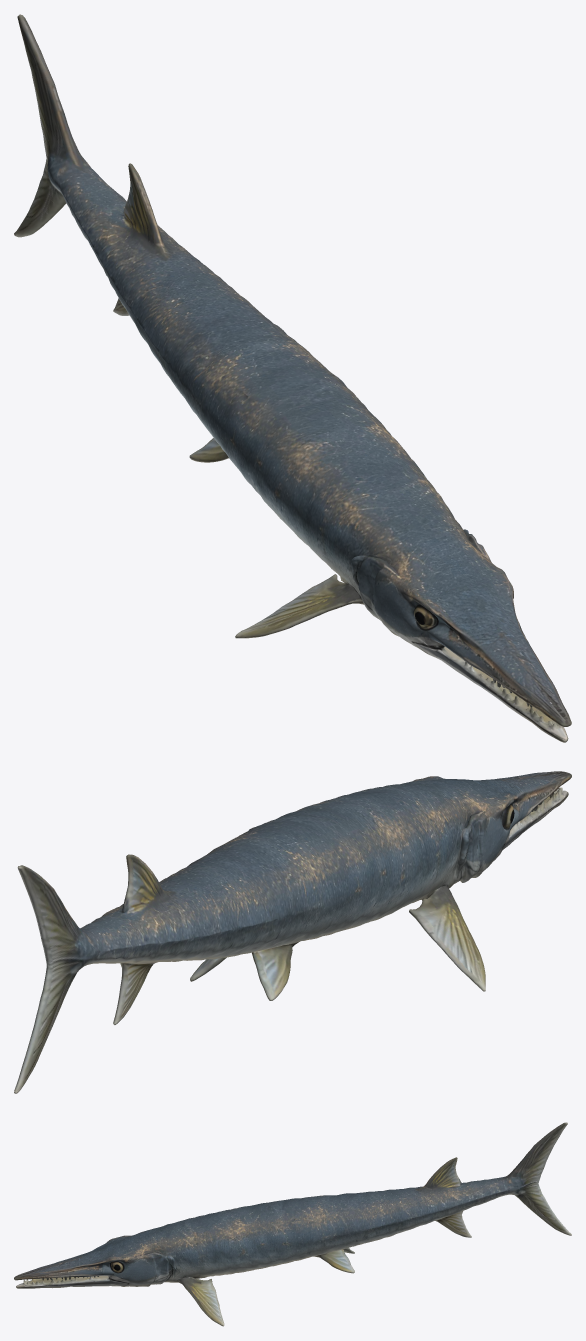
File: saurichthys.raw.glb
3 views of the same model, one above another, from view 1: azimuth 30°, elevation 25°; view 2: azimuth 150°, elevation 25°; view 3: azimuth 270°, elevation 25° (orthographic). The views are drawn at different scales.
Visible parts, largest first — view 1: tripo_node_fcd37f06-a374-42dc-b9eb-6aa38e6160db; view 2: tripo_node_fcd37f06-a374-42dc-b9eb-6aa38e6160db; view 3: tripo_node_fcd37f06-a374-42dc-b9eb-6aa38e6160db.
Part boxes in pixels (left/top/right/bottom): tripo_node_fcd37f06-a374-42dc-b9eb-6aa38e6160db: left=14, top=14, right=571, bottom=742; tripo_node_fcd37f06-a374-42dc-b9eb-6aa38e6160db: left=14, top=771, right=571, bottom=1093; tripo_node_fcd37f06-a374-42dc-b9eb-6aa38e6160db: left=14, top=1122, right=571, bottom=1326.
Size of the model in its own units: 0.2615 by 0.3436 by 1.
Materials: 1 (1 with a texture image).
